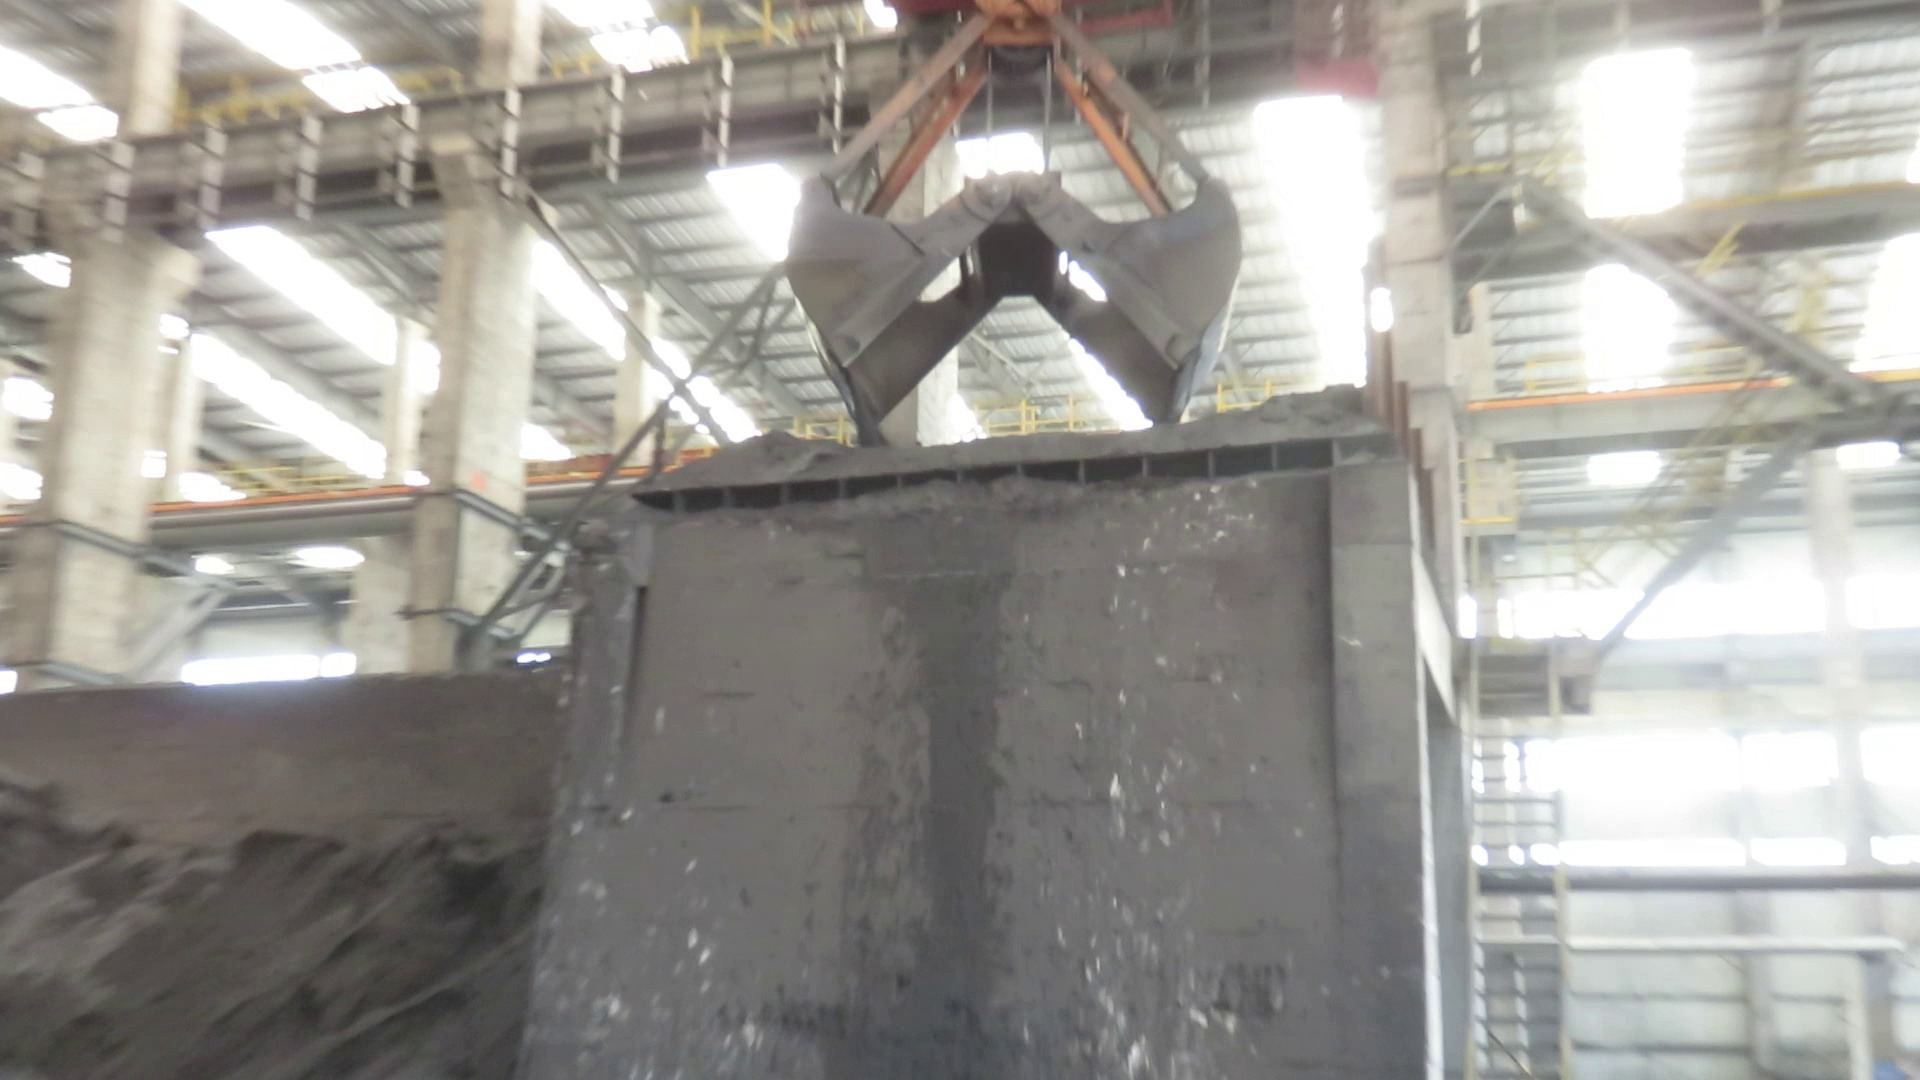grab: (781, 0, 1250, 443)
